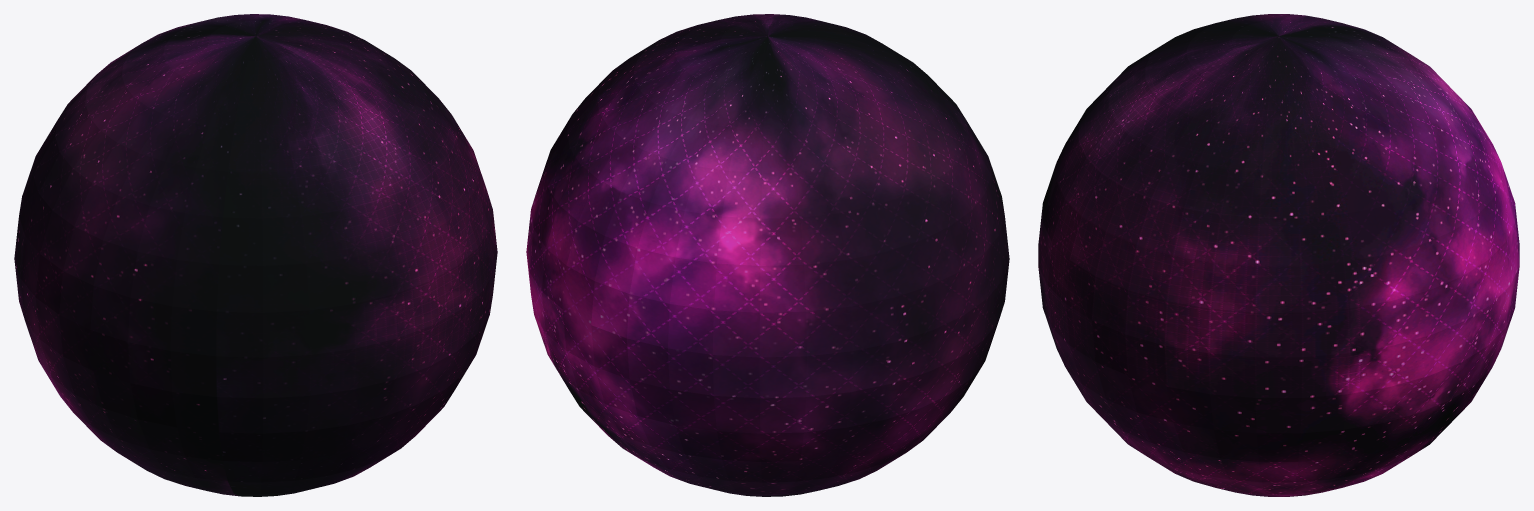
Rendered from borne_paiement.glb.
The picture shows the model from 3 angles, left to right: view 1: azimuth 30°, elevation 25°; view 2: azimuth 150°, elevation 25°; view 3: azimuth 270°, elevation 25°; orthographic projection.
Visible parts, largest first — view 1: Sphere_1; view 2: Sphere_1; view 3: Sphere_1.
Part boxes in pixels (bbox=[...]): Sphere_1: bbox=[14, 14, 497, 496]; Sphere_1: bbox=[526, 14, 1009, 496]; Sphere_1: bbox=[1038, 14, 1519, 496].
Size of the model in its own units: 3693 by 3710 by 3693.
Materials: 2 (2 with a texture image).
